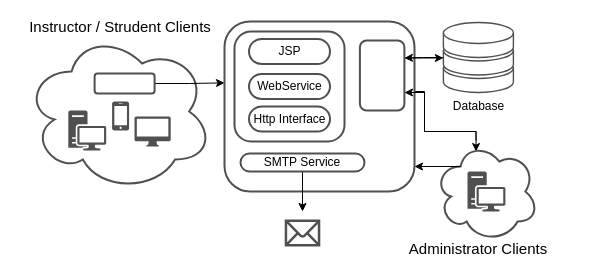
Some shapes in this 600 by 274 pixel diagram are drawn without their labels. Each missing label, with the centre of its shape:
Browser: pixel 124 83
JDBC: pixel 381 75
